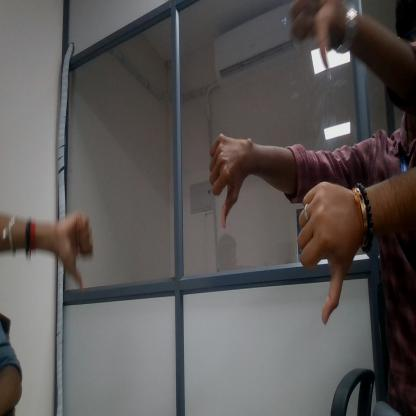Thumbs Down: (297, 175, 357, 327), (207, 126, 249, 233), (48, 207, 97, 297)
